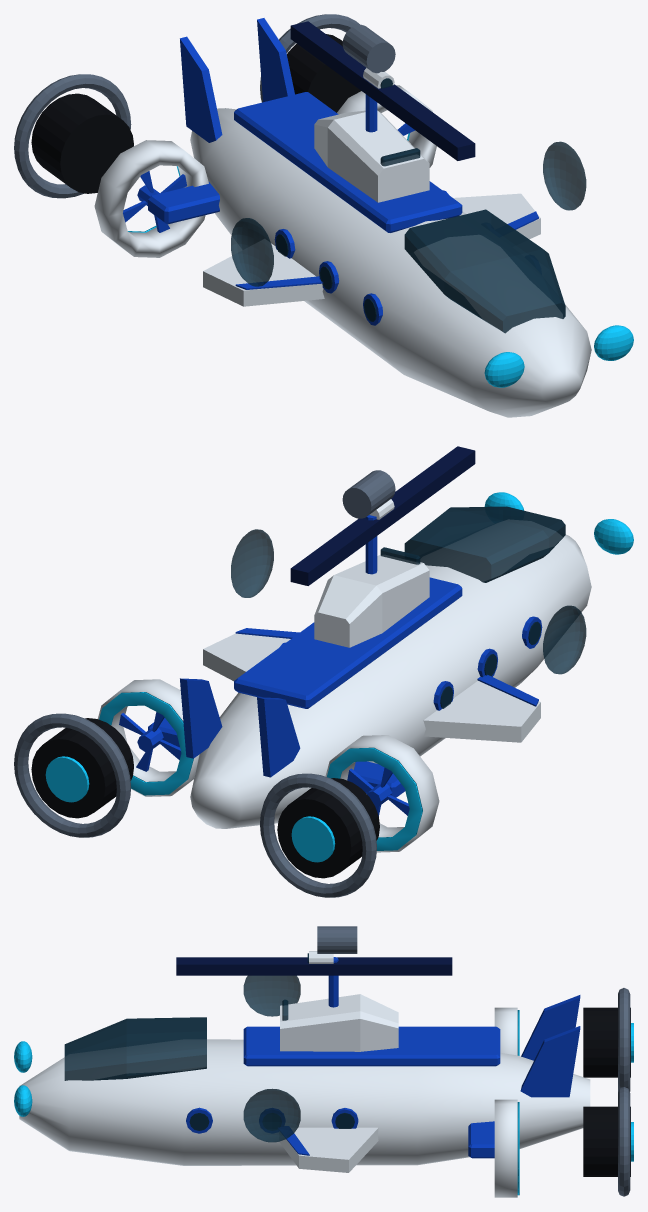
File: astra_submarino_detallado.obj
The picture shows the model from 3 angles, top to bottom: view 1: azimuth 30°, elevation 25°; view 2: azimuth 150°, elevation 25°; view 3: azimuth 270°, elevation 25°; orthographic projection. The views are drawn at different scales.
Parts seen in each view (by area): view 1: astra_submarino, Astra_Sub_Propeller_L, Astra_Sub_Dorsal_Rail, Astra_Sub_Guard_L, Astra_Sub_Propeller_R, Astra_Porthole_R, Astra_Porthole_L, Astra_Sub_Sonar, Astra_Sub_Headlight_R, Astra_Sub_Headlight_L, Astra_Sub_Guard_R; view 2: astra_submarino, Astra_Sub_Dorsal_Rail, Astra_Sub_Guard_R, Astra_Sub_Guard_L, Astra_Sub_Propeller_R, Astra_Sub_Propeller_L, Astra_Porthole_L, Astra_Porthole_R, Astra_Sub_Sonar, Astra_Sub_Core_R, Astra_Sub_Core_L, Astra_Sub_Headlight_L; view 3: astra_submarino, Astra_Sub_Dorsal_Rail, Astra_Sub_Propeller_L, Astra_Sub_Propeller_R, Astra_Porthole_R, Astra_Porthole_L, Astra_Sub_Guard_R, Astra_Sub_Guard_L, Astra_Sub_Sonar, Astra_Sub_Headlight_L, Astra_Sub_Headlight_R.
Part boxes in pixels (box(x1,y1,x2,y2)): astra_submarino: box(94, 18, 591, 417); Astra_Sub_Propeller_L: box(31, 93, 133, 193); Astra_Sub_Dorsal_Rail: box(290, 21, 475, 160); Astra_Sub_Guard_L: box(14, 74, 131, 198); Astra_Sub_Propeller_R: box(287, 34, 360, 112); Astra_Porthole_R: box(543, 141, 586, 210); Astra_Porthole_L: box(231, 218, 273, 286); Astra_Sub_Sonar: box(342, 24, 395, 73); Astra_Sub_Headlight_R: box(594, 325, 633, 360); Astra_Sub_Headlight_L: box(484, 352, 524, 387); Astra_Sub_Guard_R: box(260, 14, 360, 102); astra_submarino: box(97, 499, 591, 852); Astra_Sub_Dorsal_Rail: box(290, 446, 475, 585); Astra_Sub_Guard_R: box(14, 713, 131, 837); Astra_Sub_Guard_L: box(260, 773, 376, 897); Astra_Sub_Propeller_R: box(31, 718, 133, 818); Astra_Sub_Propeller_L: box(277, 778, 379, 878); Astra_Porthole_L: box(543, 605, 586, 674); Astra_Porthole_R: box(231, 529, 273, 597); Astra_Sub_Sonar: box(342, 470, 395, 518); Astra_Sub_Core_R: box(45, 756, 89, 802); Astra_Sub_Core_L: box(291, 816, 335, 862); Astra_Sub_Headlight_L: box(594, 519, 633, 554); astra_submarino: box(19, 951, 590, 1197); Astra_Sub_Dorsal_Rail: box(176, 957, 452, 975); Astra_Sub_Propeller_L: box(583, 1007, 630, 1077); Astra_Sub_Propeller_R: box(583, 1106, 630, 1176); Astra_Porthole_R: box(243, 1088, 300, 1142); Astra_Porthole_L: box(243, 975, 300, 1016); Astra_Sub_Guard_R: box(618, 1087, 630, 1196); Astra_Sub_Guard_L: box(618, 988, 630, 1091); Astra_Sub_Sonar: box(317, 926, 357, 953); Astra_Sub_Headlight_L: box(14, 1041, 32, 1072); Astra_Sub_Headlight_R: box(14, 1085, 32, 1116).
Size of the model in its own units: 4.5 by 3.31 by 8.09.
